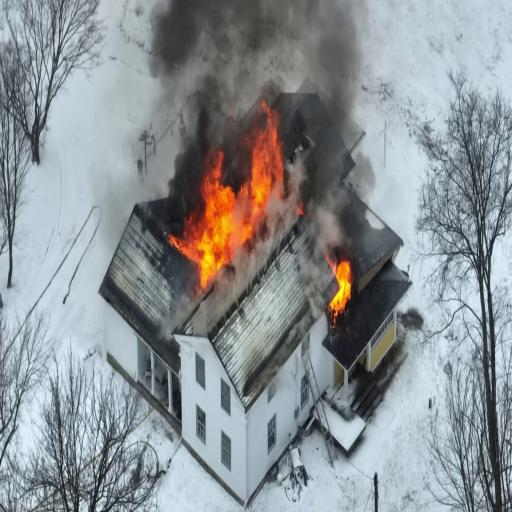fire: (197, 177, 272, 253), (169, 220, 236, 282), (254, 91, 282, 226), (329, 262, 356, 323)
smoke: (178, 14, 236, 172)
